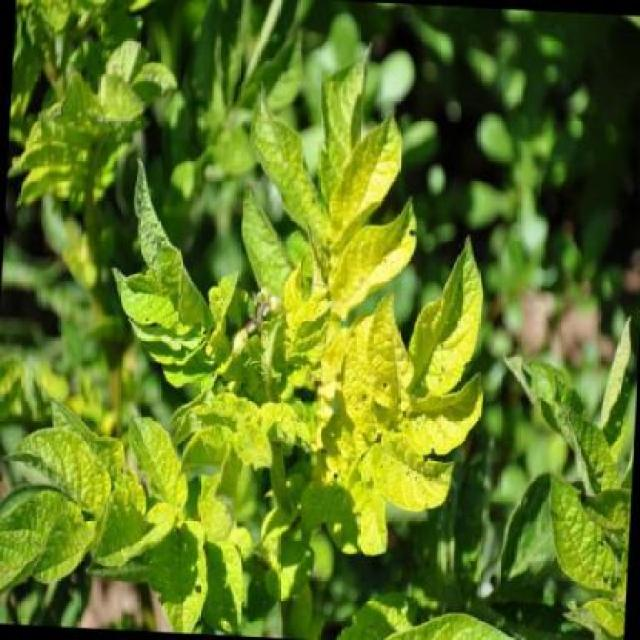Healthy Leaf: (403, 241, 504, 390), (222, 330, 315, 483), (119, 393, 203, 561), (164, 379, 281, 498), (5, 420, 123, 531), (321, 107, 409, 250), (331, 202, 425, 333), (342, 422, 462, 519), (104, 252, 203, 352), (360, 281, 417, 430)
